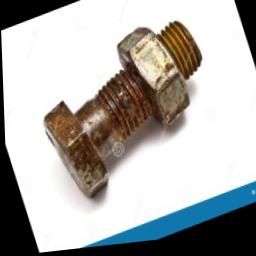Corroded-Nut-and-Bolt: (42, 24, 202, 200)
